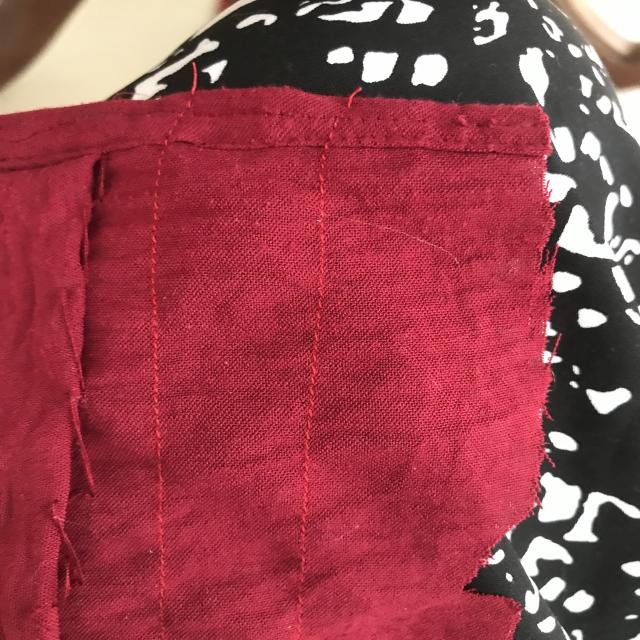good: (133, 197, 181, 354), (140, 518, 190, 605), (292, 354, 332, 456), (140, 402, 179, 494)
